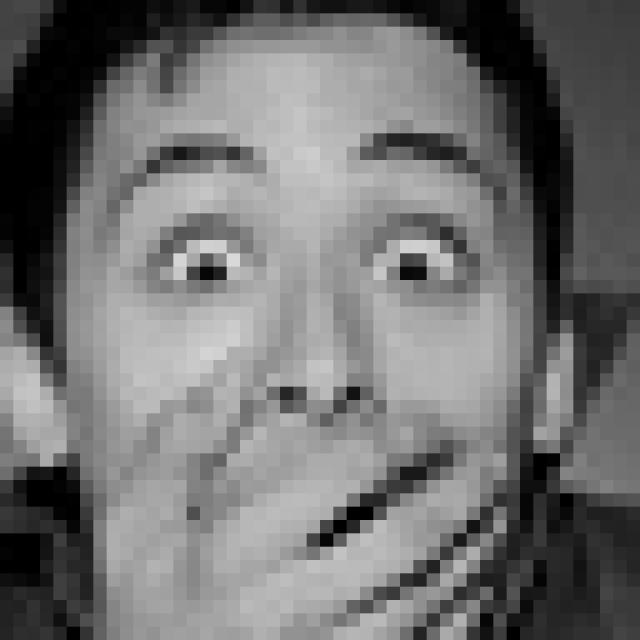fear: (100, 123, 523, 579)
